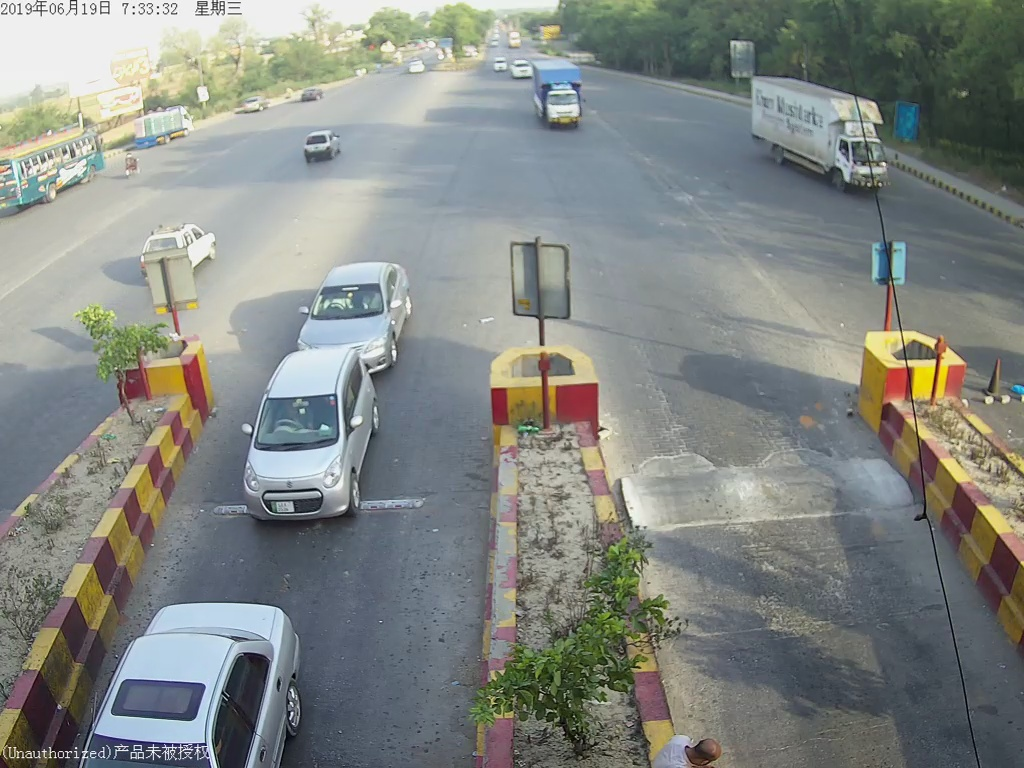Cat-1: (231, 363, 398, 525), (293, 273, 415, 349)
